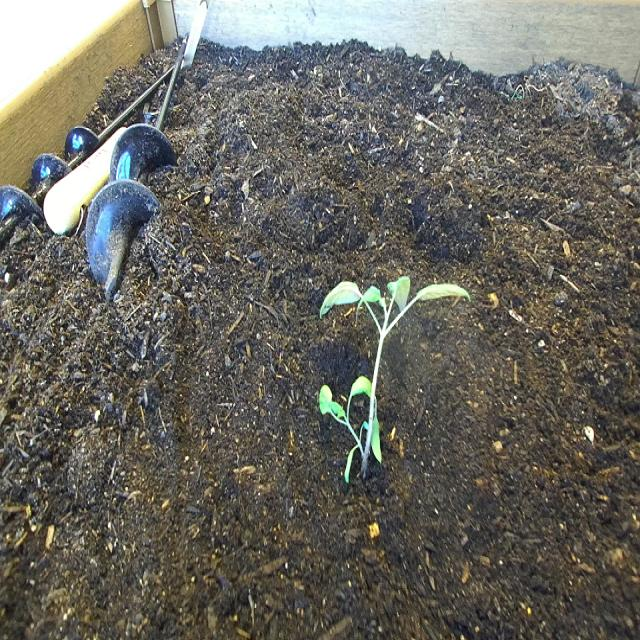Healthy: (303, 246, 481, 503)
